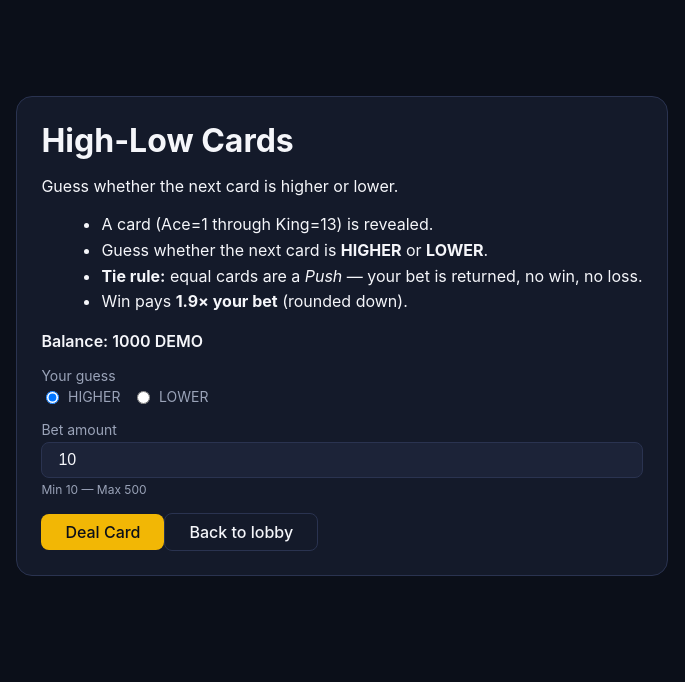
HighLow › shows a PUSH (tie) message when cards are equal
Expected: the heading "High-Low Cards" is shown, [41,121,294,160]
Click the button "Deal Card" at (103,532), box [41,514,164,550]
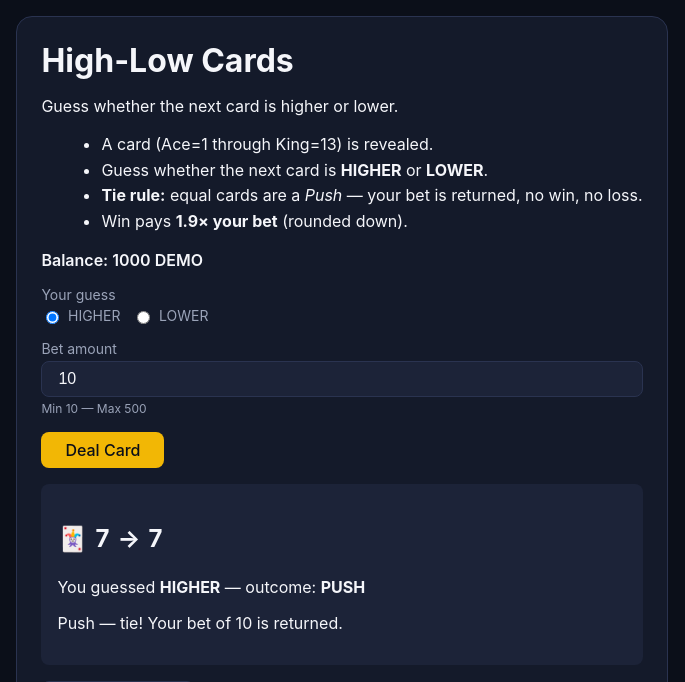
Expected: the text "Balance: 1000 DEMO" is shown, [41,250,203,270]
Expected: the text "Push — tie! Your bet of 10 is returned." is shown, [57,613,343,633]
